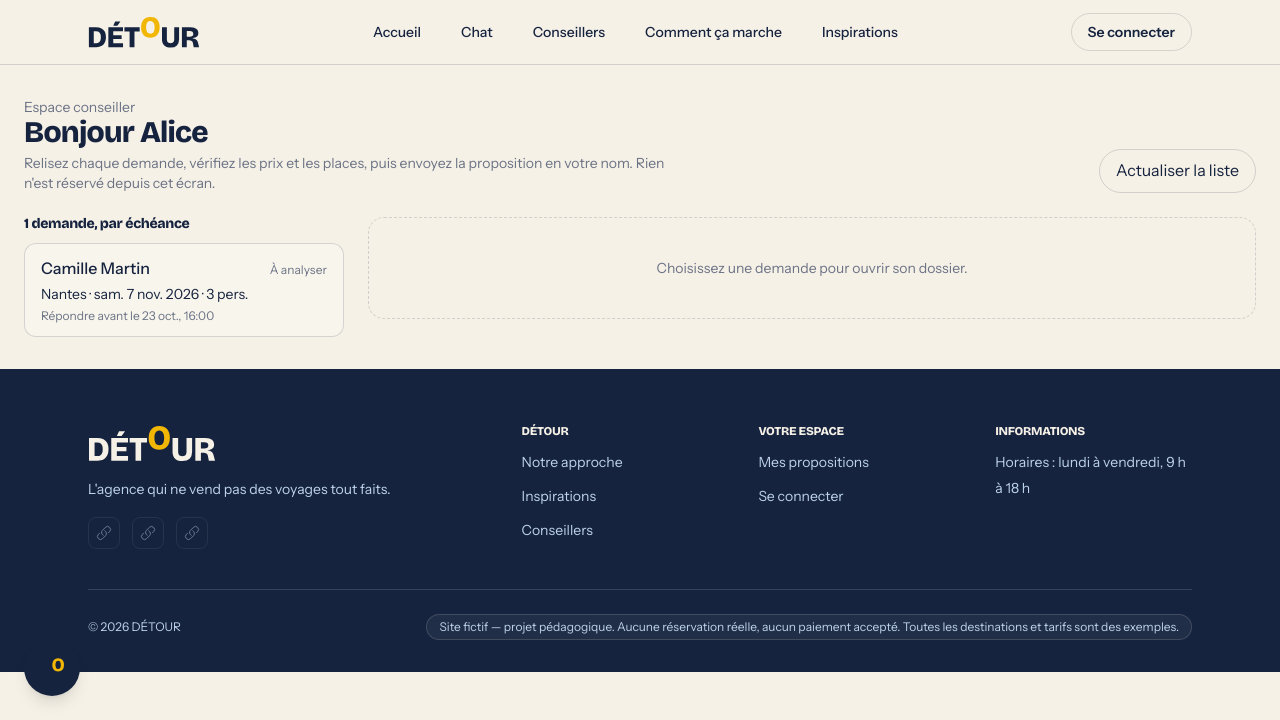
it: EspaceConseiller › shows prices, seats, schedule and verification status of each service
What coordinates should you click on to do the following:
click the button "Camille Martin"
I would click on:
 (184, 290)
Its box is x1=24 y1=243 x2=344 y2=337.
(page scrolled)
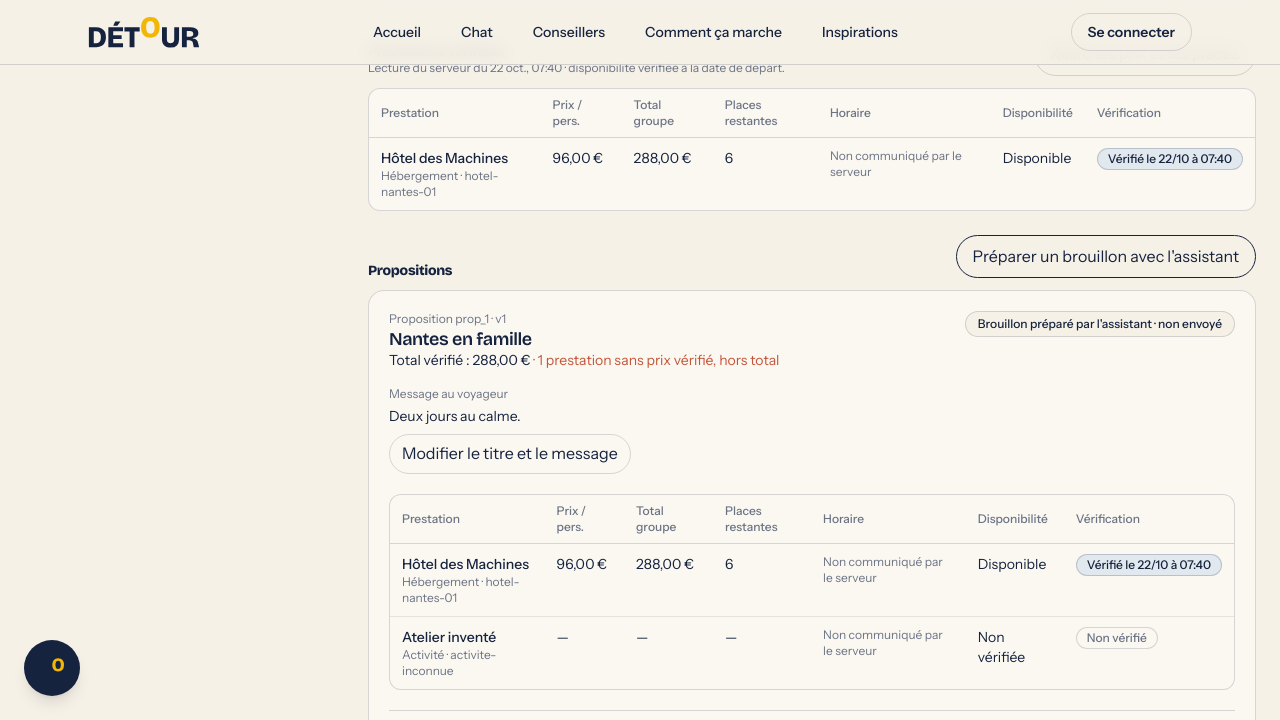
expect the text "6" below "Deux jours au calme." is shown: met, box x1=725 y1=555 x2=733 y2=573
expect the 2nd text "Non communiqué par le serveur" is shown: met, box x1=811 y1=544 x2=966 y2=616
expect the 2nd text "Vérifié le 22/10 à 07:40" is shown: met, box x1=1076 y1=554 x2=1222 y2=576
